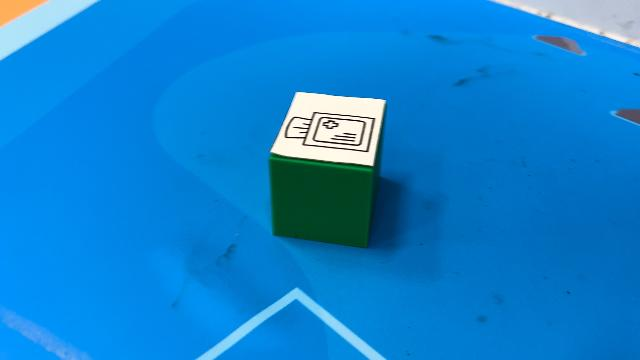napkin: (270, 92, 390, 248)
